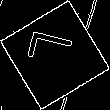L_E: (27, 34, 83, 76)
